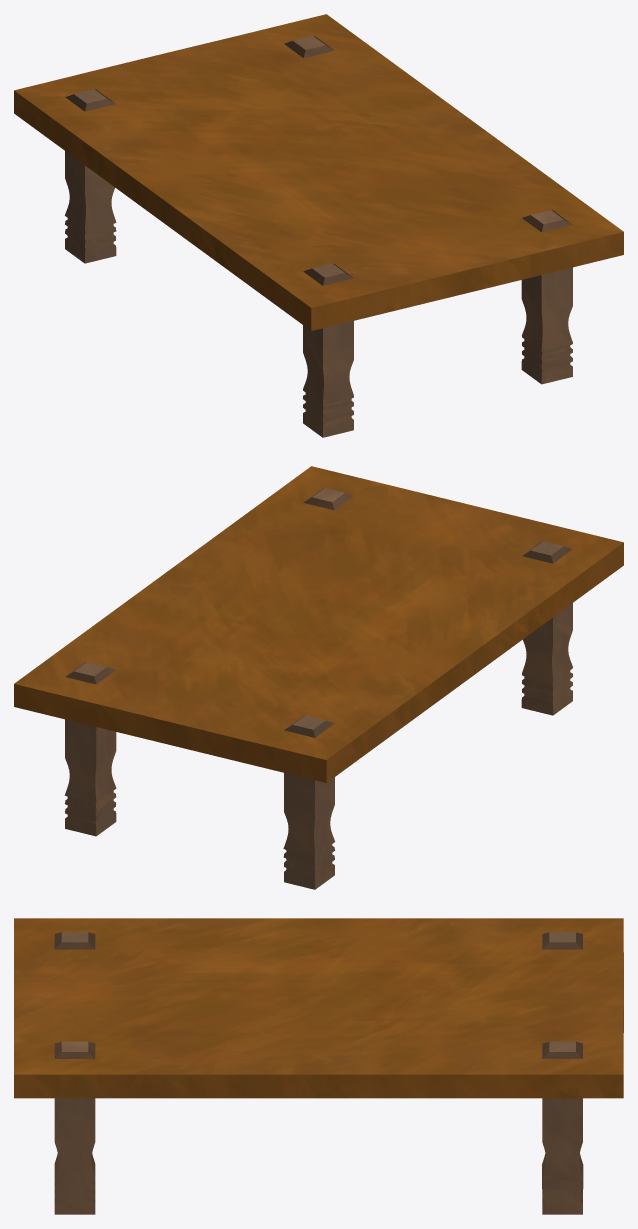
Rendered from House_CoffeeTable_v01.fbx.
The picture shows the model from 3 angles, top to bottom: view 1: azimuth 30°, elevation 25°; view 2: azimuth 150°, elevation 25°; view 3: azimuth 270°, elevation 25°; orthographic projection. The views are drawn at different scales.
Visible parts, largest first — view 1: Coffee_Table; view 2: Coffee_Table; view 3: Coffee_Table.
Part boxes in pixels (x1,y1,x2,y2): Coffee_Table: [14, 14, 623, 437]; Coffee_Table: [14, 466, 623, 889]; Coffee_Table: [14, 918, 623, 1214].
Size of the model in its own units: 119 by 197 by 56.98.
Materials: 3 (3 with a texture image).
